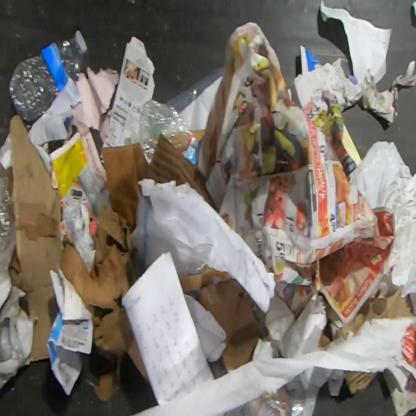cardboard: (0, 114, 64, 364), (102, 36, 155, 148), (342, 370, 378, 395), (336, 313, 364, 342)
rigid_plastic: (8, 30, 88, 124), (136, 98, 202, 166)
soft_plastic: (348, 140, 415, 299), (166, 64, 225, 113), (0, 176, 16, 285), (257, 394, 317, 416)
